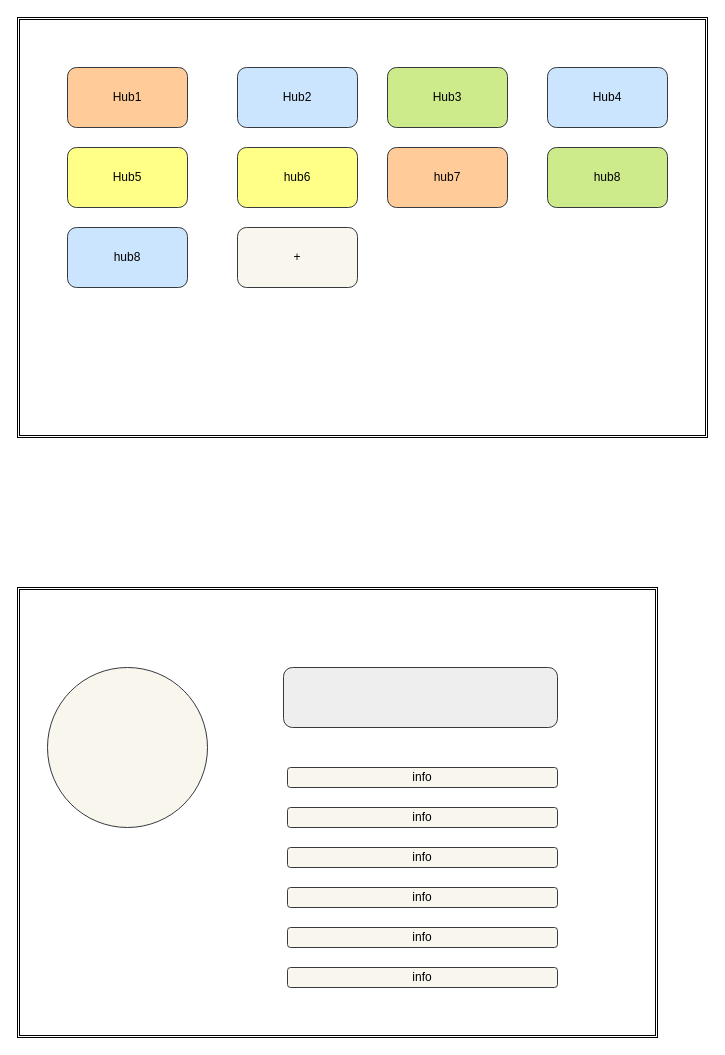
Some shapes in this 725 by 1055 pixel diagram are drawn without their labels. Here are the shapes that lost their labels. From the top down, the box of each, then its label:
(282, 666, 558, 728): Name SurName
(46, 666, 208, 828): Profile photo
